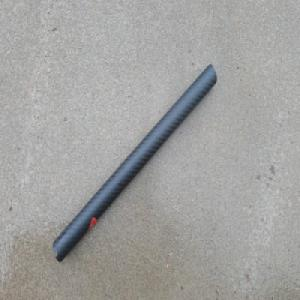LuggagePart: (51, 62, 216, 264)
